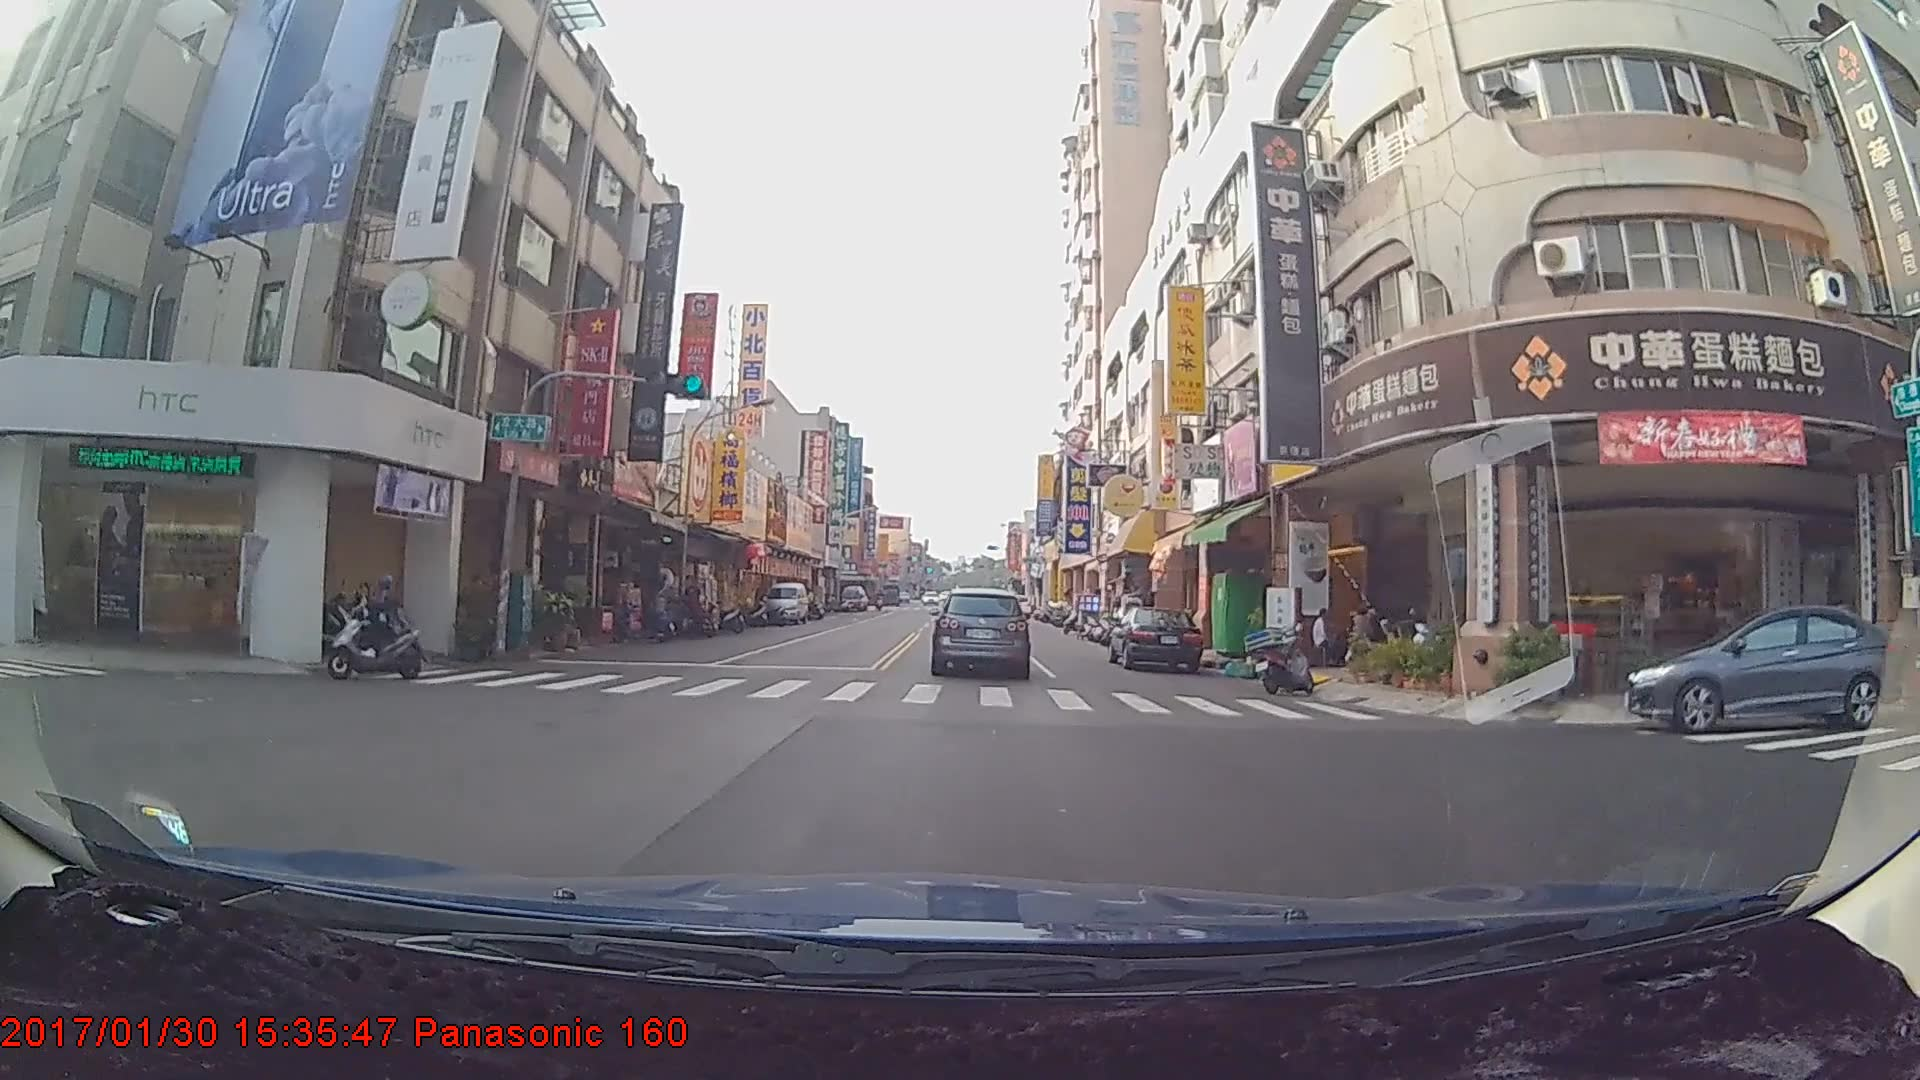pedestrian: (1307, 601, 1338, 663), (1343, 603, 1374, 664)
rider: (321, 567, 426, 680)
vehicle: (1622, 603, 1903, 735), (932, 586, 1028, 677), (1111, 604, 1203, 672), (757, 577, 808, 621), (840, 584, 869, 612)
